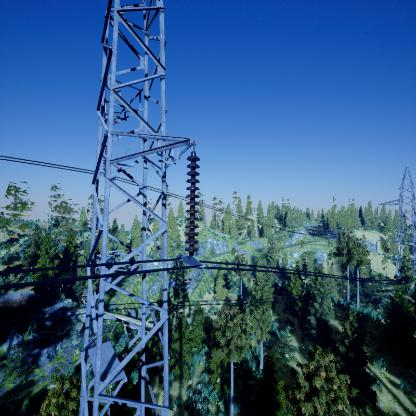insulator: (184, 153, 201, 255)
